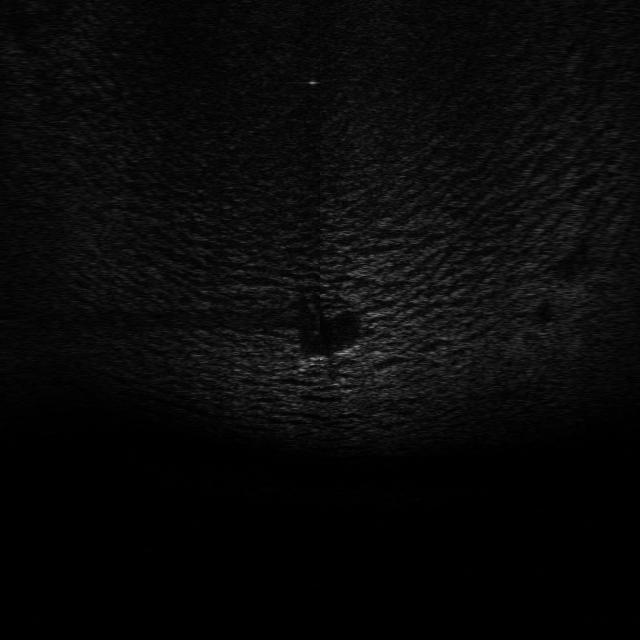plane: (287, 342, 367, 375)
